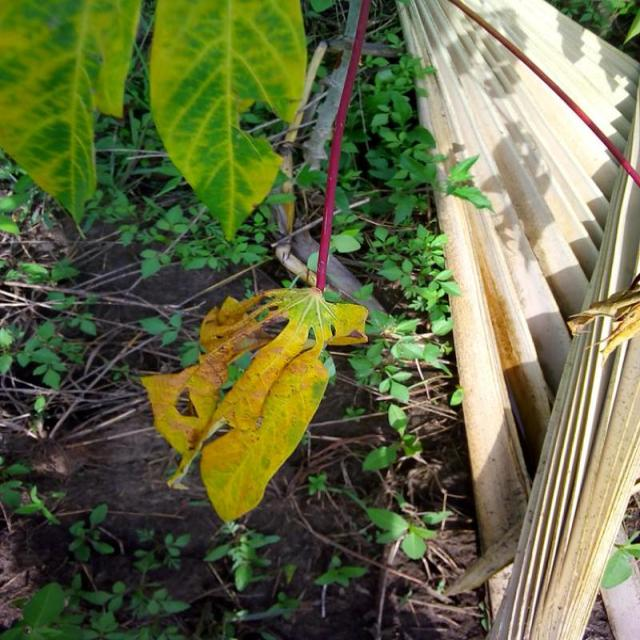cassava leaf: (140, 277, 370, 524), (150, 0, 308, 241), (1, 0, 143, 235)
